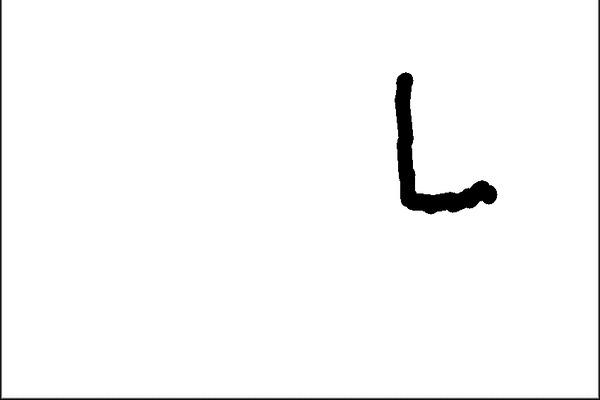L: (378, 60, 500, 222)
